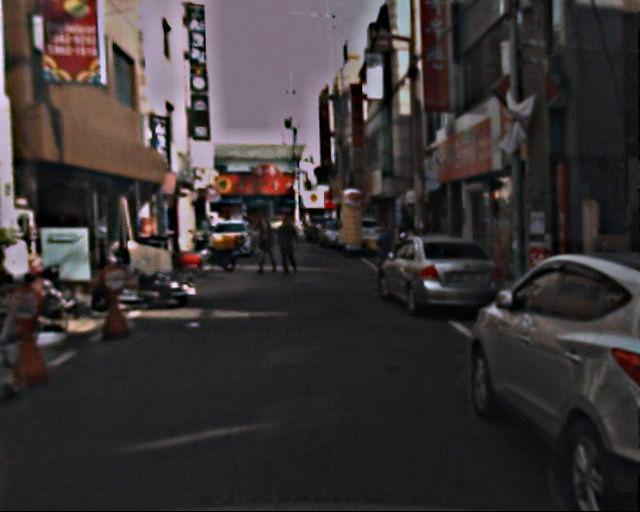person: (274, 215, 301, 286), (372, 218, 398, 291), (257, 216, 279, 278)
